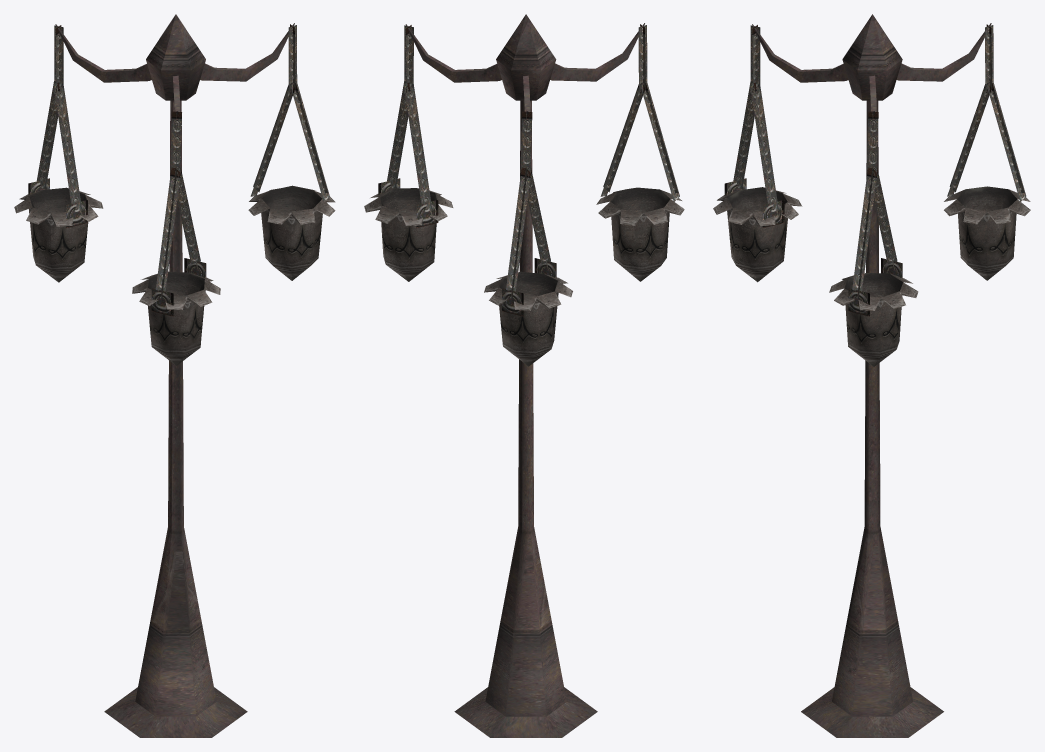
File: Incensary_lod.fbx
3 renders of one model, left to right at view 1: azimuth 30°, elevation 25°; view 2: azimuth 150°, elevation 25°; view 3: azimuth 270°, elevation 25°, orthographic.
Visible parts, largest first — view 1: Mesh Object; view 2: Mesh Object; view 3: Mesh Object.
Boxes of the visible parts, left/top/right/bottom form: Mesh Object: left=14, top=14, right=335, bottom=737; Mesh Object: left=364, top=14, right=684, bottom=737; Mesh Object: left=713, top=14, right=1030, bottom=737.
Size of the model in its own units: 1.06 by 2.8 by 1.16.
